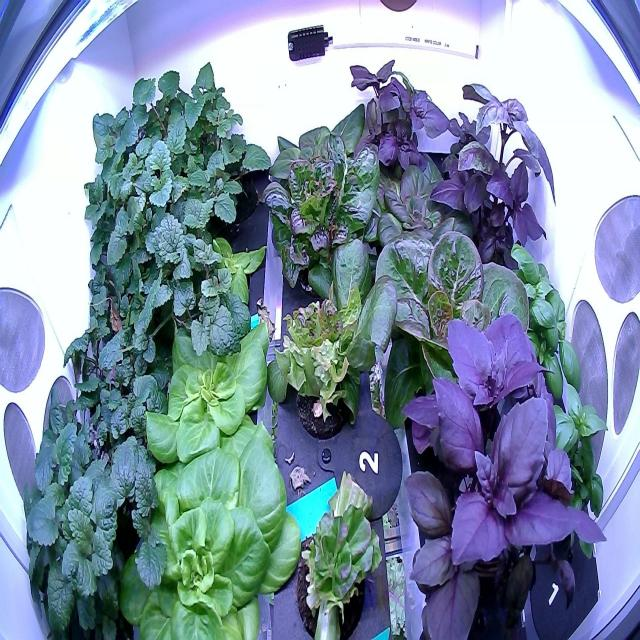Ready: (250, 128, 392, 303)
young: (362, 217, 547, 461), (115, 419, 308, 636), (141, 309, 274, 475), (356, 135, 488, 287), (262, 90, 383, 210), (189, 227, 273, 337)
